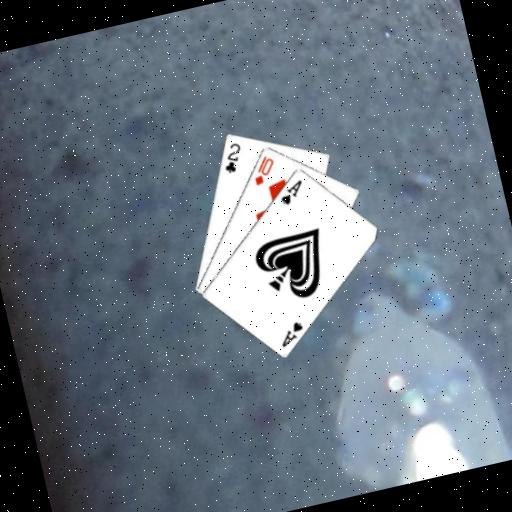10D: (247, 151, 280, 188)
2C: (216, 139, 247, 176)
AS: (273, 317, 308, 350), (274, 176, 308, 207)
